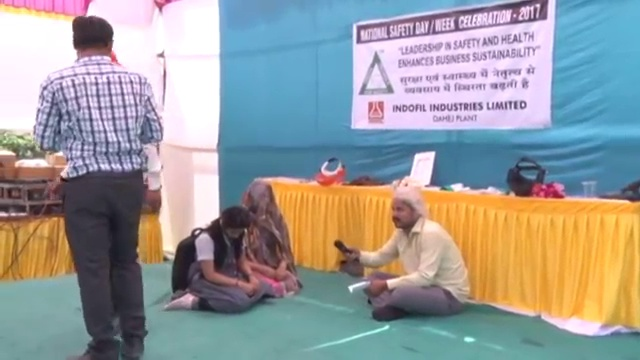helmet_off: (69, 19, 115, 65), (383, 188, 428, 235), (244, 185, 281, 231), (216, 205, 250, 244)
person: (39, 14, 166, 360), (334, 184, 470, 319), (170, 203, 272, 318), (239, 180, 300, 301)
